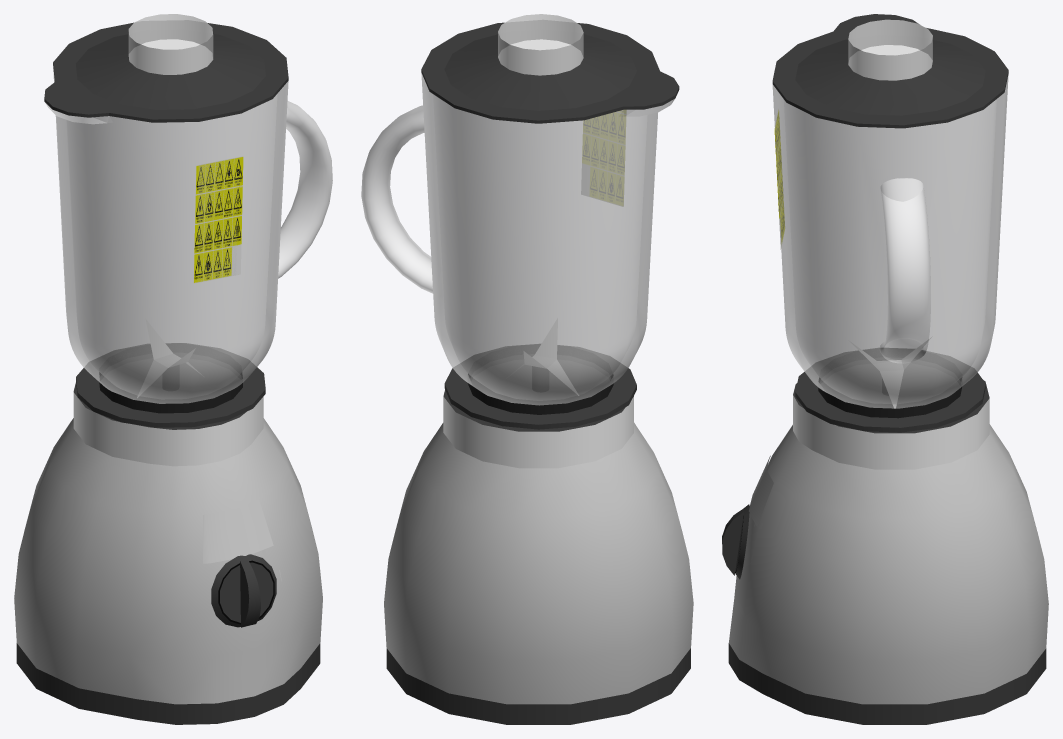
3 renders of one model, left to right at view 1: azimuth 30°, elevation 25°; view 2: azimuth 150°, elevation 25°; view 3: azimuth 270°, elevation 25°, orthographic.
Visible parts, largest first — view 1: Becher (×11), SketchUp (×4), image_0, Schalter (×2), group_0, Messer; view 2: Becher (×10), SketchUp (×4), image_0, Messer; view 3: Becher (×11), SketchUp (×5), Messer, group_0, image_0.
Part boxes in pixels (left/top/right/bottom): Becher (×11): left=44, top=14, right=332, bottom=427; SketchUp (×4): left=14, top=392, right=322, bottom=724; image_0: left=193, top=156, right=243, bottom=283; Schalter (×2): left=211, top=554, right=276, bottom=627; group_0: left=240, top=559, right=260, bottom=627; Messer: left=137, top=320, right=200, bottom=397; Becher (×10): left=361, top=14, right=679, bottom=429; SketchUp (×4): left=384, top=389, right=693, bottom=724; image_0: left=581, top=110, right=626, bottom=206; Messer: left=516, top=318, right=578, bottom=395; Becher (×11): left=772, top=14, right=1008, bottom=432; SketchUp (×5): left=728, top=380, right=1048, bottom=724; Messer: left=851, top=337, right=931, bottom=408; group_0: left=722, top=508, right=743, bottom=575; image_0: left=774, top=110, right=784, bottom=249.
Size of the model in its own units: 7.84 by 7.39 by 15.59.
